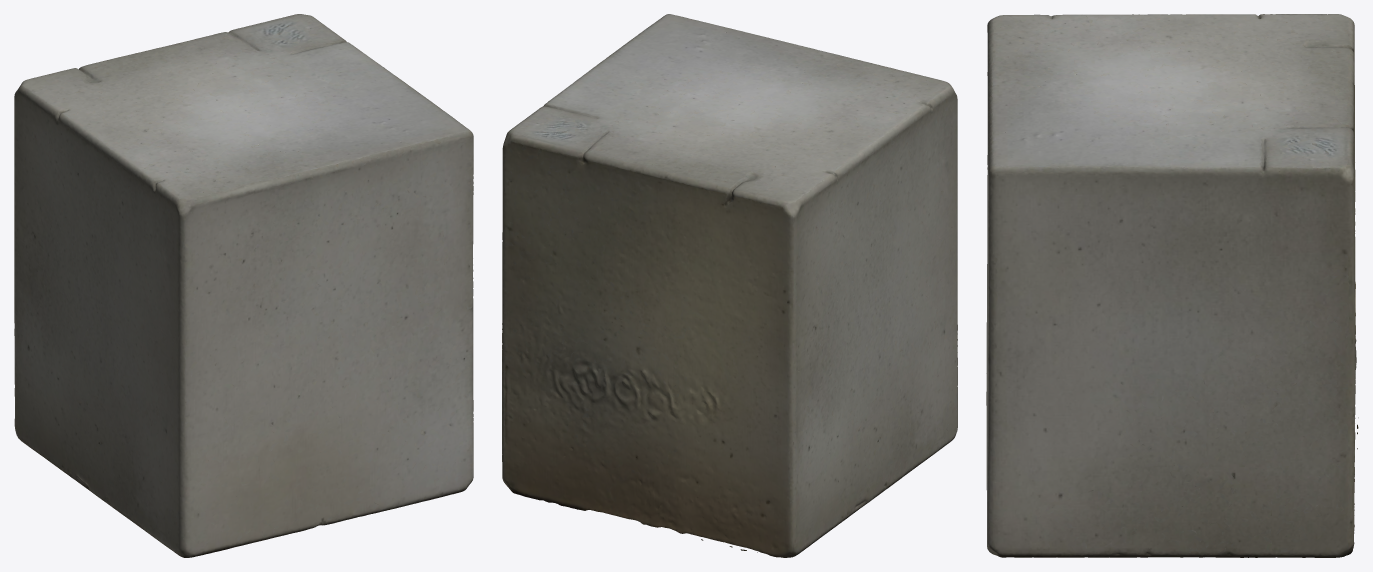
The picture shows the model from 3 angles, left to right: view 1: azimuth 30°, elevation 25°; view 2: azimuth 150°, elevation 25°; view 3: azimuth 270°, elevation 25°; orthographic projection. The views are drawn at different scales.
Visible parts, largest first — view 1: world; view 2: world; view 3: world.
Part boxes in pixels (box(x1,y1,x2,y2)): world: box(14, 14, 473, 557); world: box(502, 14, 957, 557); world: box(986, 14, 1358, 557).
Size of the model in its own units: 0.8571 by 1 by 0.8559.
1 material, 1 textured.
